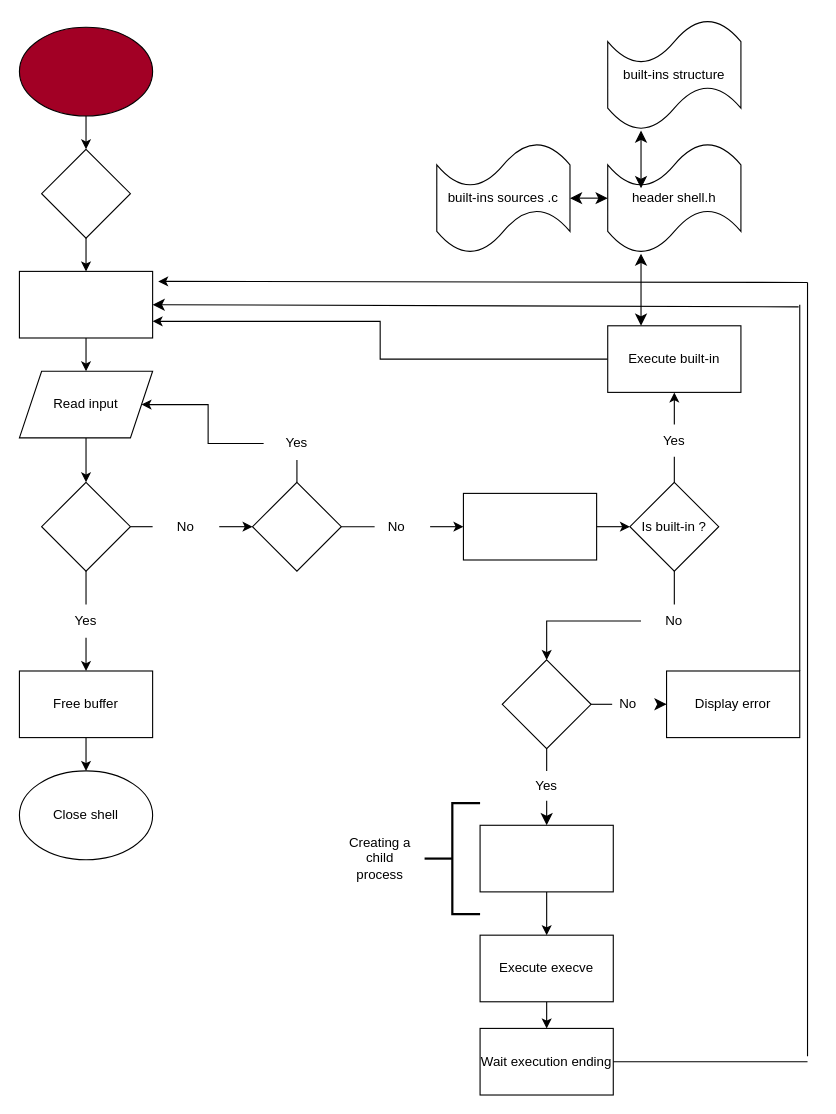
Image size: 836x1114. Some labels were removed from this diagram. The shapes that lost their labels are listed below. From the top down, each one's centre as x and y in pixels, then its label:
pixel 85 304: Display prompt
pixel 85 526: Is exit ?
pixel 296 526: Empty command ?
pixel 529 526: Parse command
pixel 546 704: Does the command exists ?
pixel 546 858: Fork process
